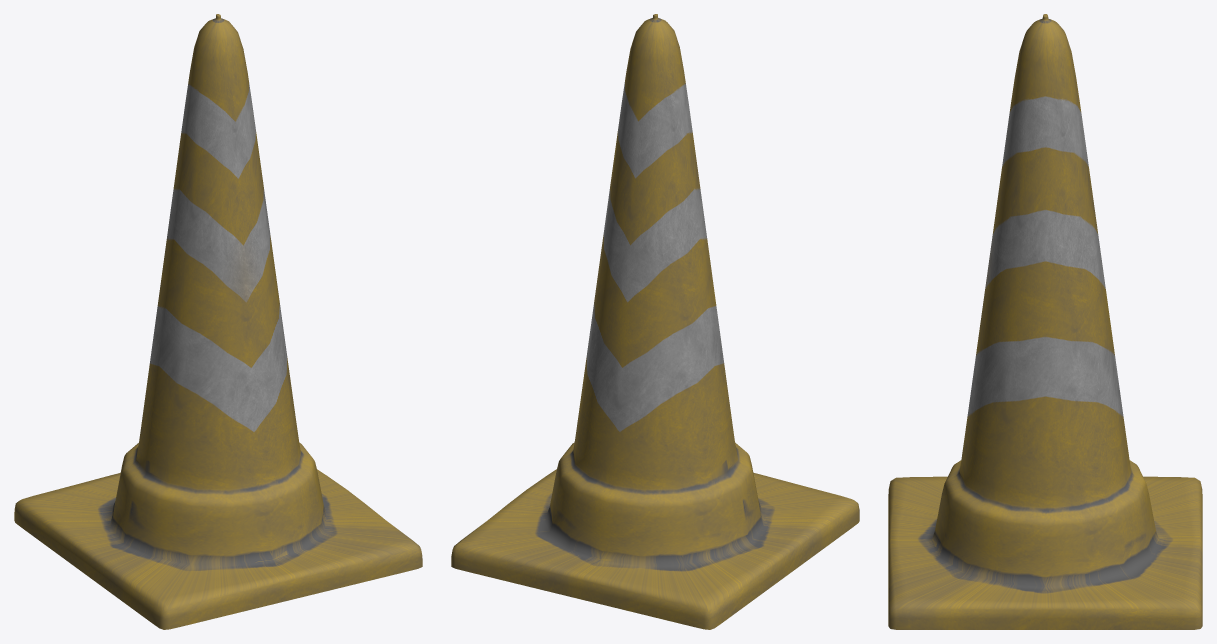
The model's file is ColorCone_Scotch_Dirty_Yellow_NoWeight.fbx.
3 renders of one model, left to right at view 1: azimuth 30°, elevation 25°; view 2: azimuth 150°, elevation 25°; view 3: azimuth 270°, elevation 25°, orthographic. The views are drawn at different scales.
Parts seen in each view (by area): view 1: ColorCone_Scotch_Dirty_Yellow_NoWeight; view 2: ColorCone_Scotch_Dirty_Yellow_NoWeight; view 3: ColorCone_Scotch_Dirty_Yellow_NoWeight.
Boxes of the visible parts, x1,y1,x2,y2 form: ColorCone_Scotch_Dirty_Yellow_NoWeight: [14, 14, 422, 629]; ColorCone_Scotch_Dirty_Yellow_NoWeight: [451, 14, 859, 629]; ColorCone_Scotch_Dirty_Yellow_NoWeight: [888, 14, 1202, 629].
Size of the model in its own units: 38 by 38 by 73.14.
1 material, 1 textured.
